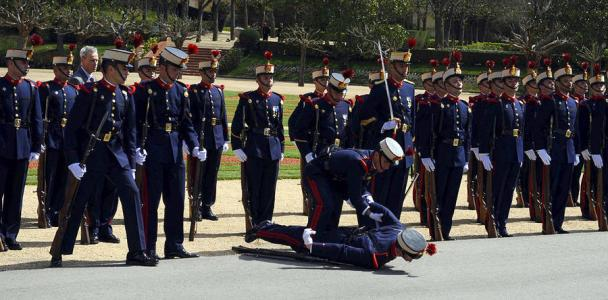10+: (1, 36, 608, 277)
down: (228, 193, 436, 276)
